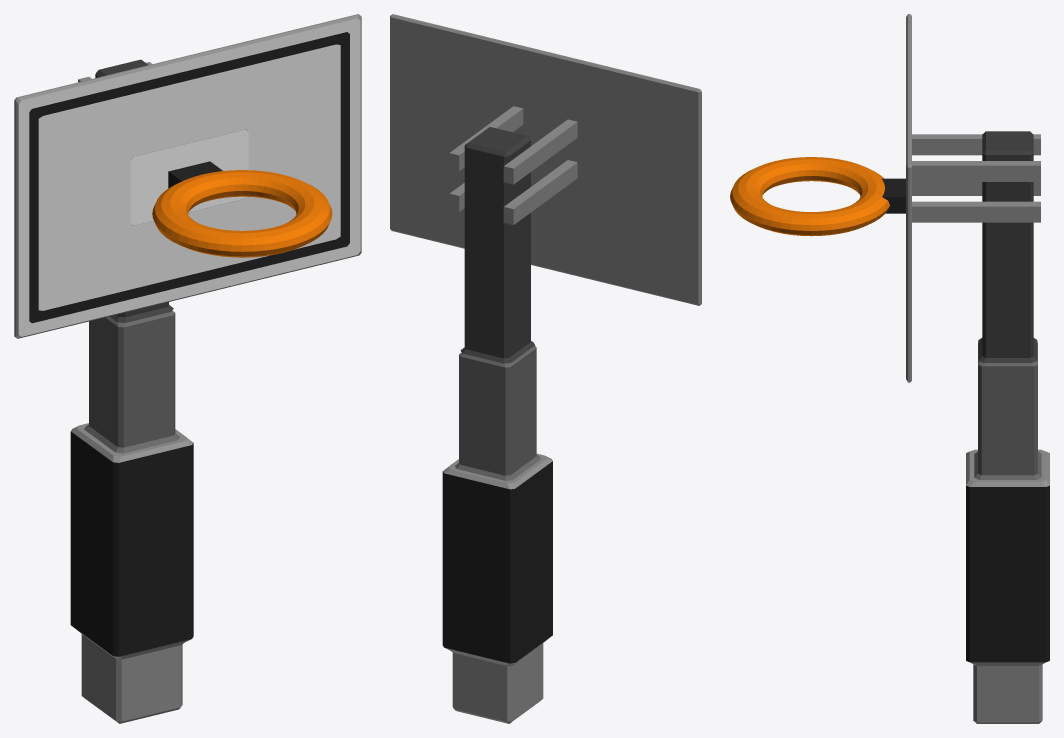
The model's file is Tiang.fbx.
3 renders of one model, left to right at view 1: azimuth 30°, elevation 25°; view 2: azimuth 150°, elevation 25°; view 3: azimuth 270°, elevation 25°, orthographic. The views are drawn at different scales.
Visible parts, largest first — view 1: Tiang; view 2: Tiang; view 3: Tiang.
Part boxes in pixels (x1,y1,x2,y2): Tiang: (14, 14, 361, 723); Tiang: (390, 14, 701, 723); Tiang: (730, 14, 1049, 723).
Size of the model in its own units: 1203 by 2286 by 1066.
